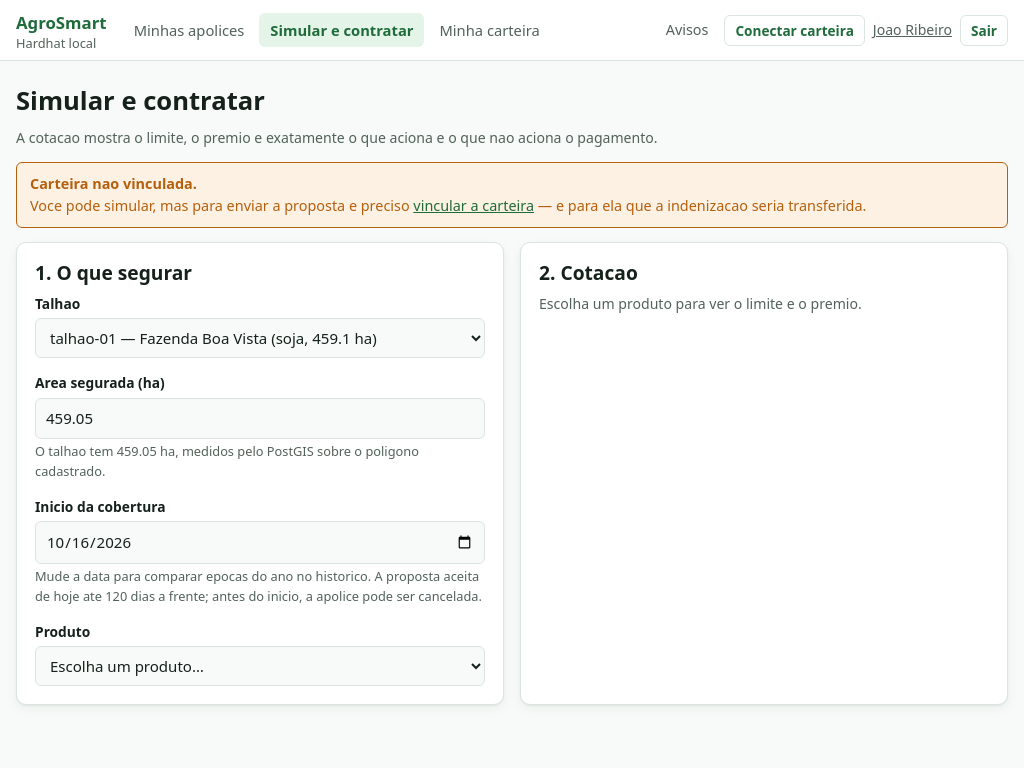
Test: cotacao e contratacao (RF06, RNF04, HU10) › sem carteira vinculada, nao deixa enviar a proposta
The width and height of the screenshot is (1024, 768).
Select "Estiagem escalonada — soja" in the dropdown labelled "Produto". click: (260, 666)
box: left=35, top=646, right=485, bottom=686
(page scrolled)
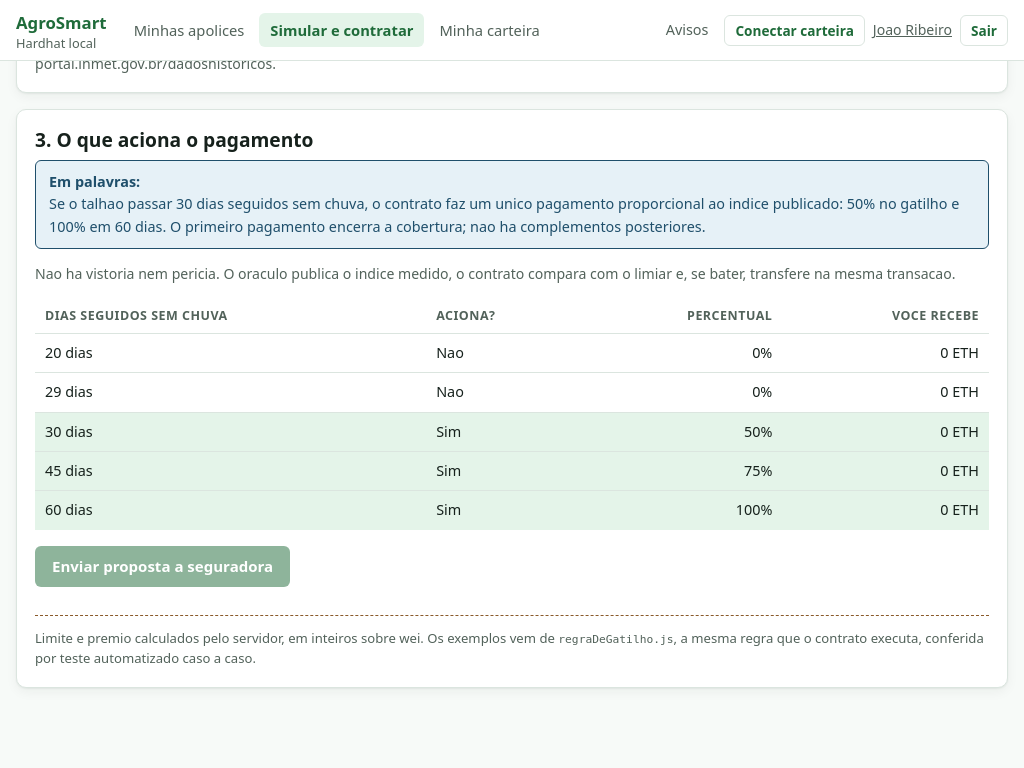
Result: the button "Enviar proposta a seguradora" is disabled at left=35, top=546, right=290, bottom=587
